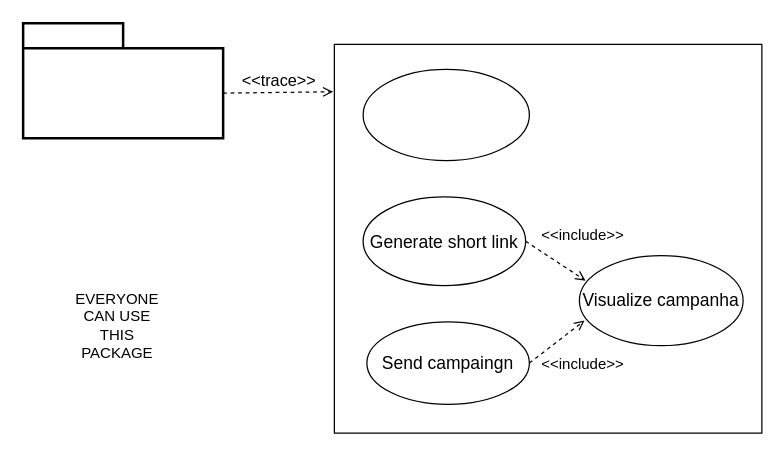
Image size: 784x455. Some labels were removed from this diagram. The centre of each missing label's shape, as x and y in pixels:
"Create" goes at pixel 445 114.
"Package - Campaings" goes at pixel 122 80.
